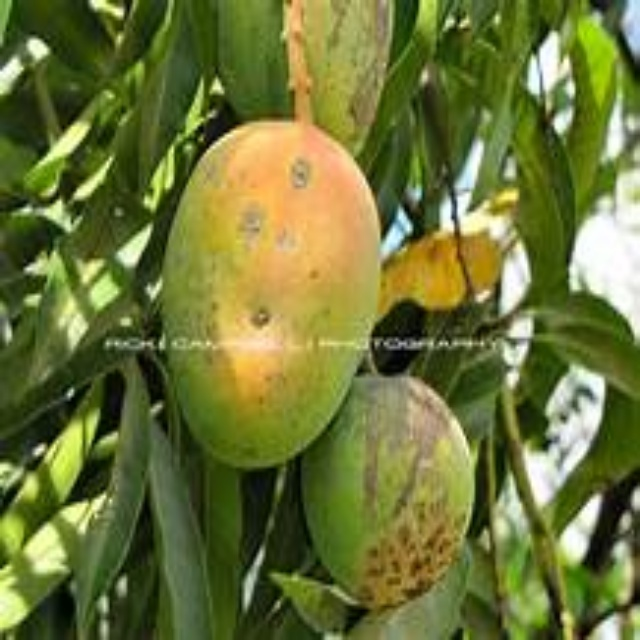mango: (168, 123, 379, 464), (302, 375, 481, 602), (274, 4, 401, 161)
